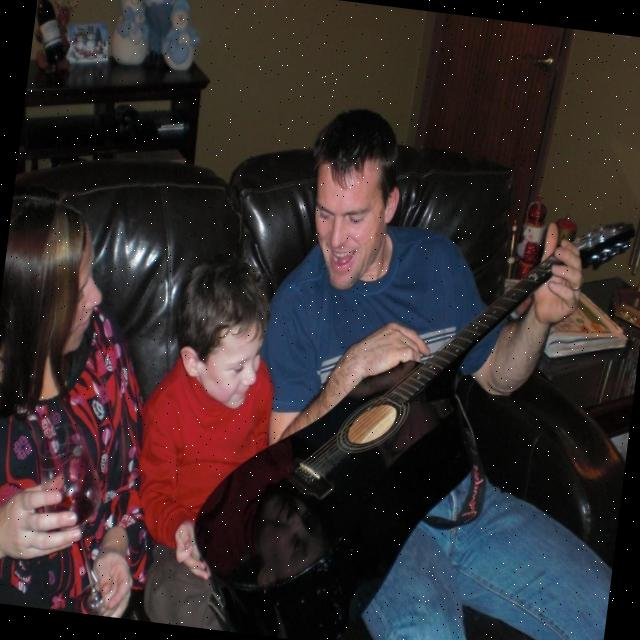guitar: (181, 171, 637, 640)
